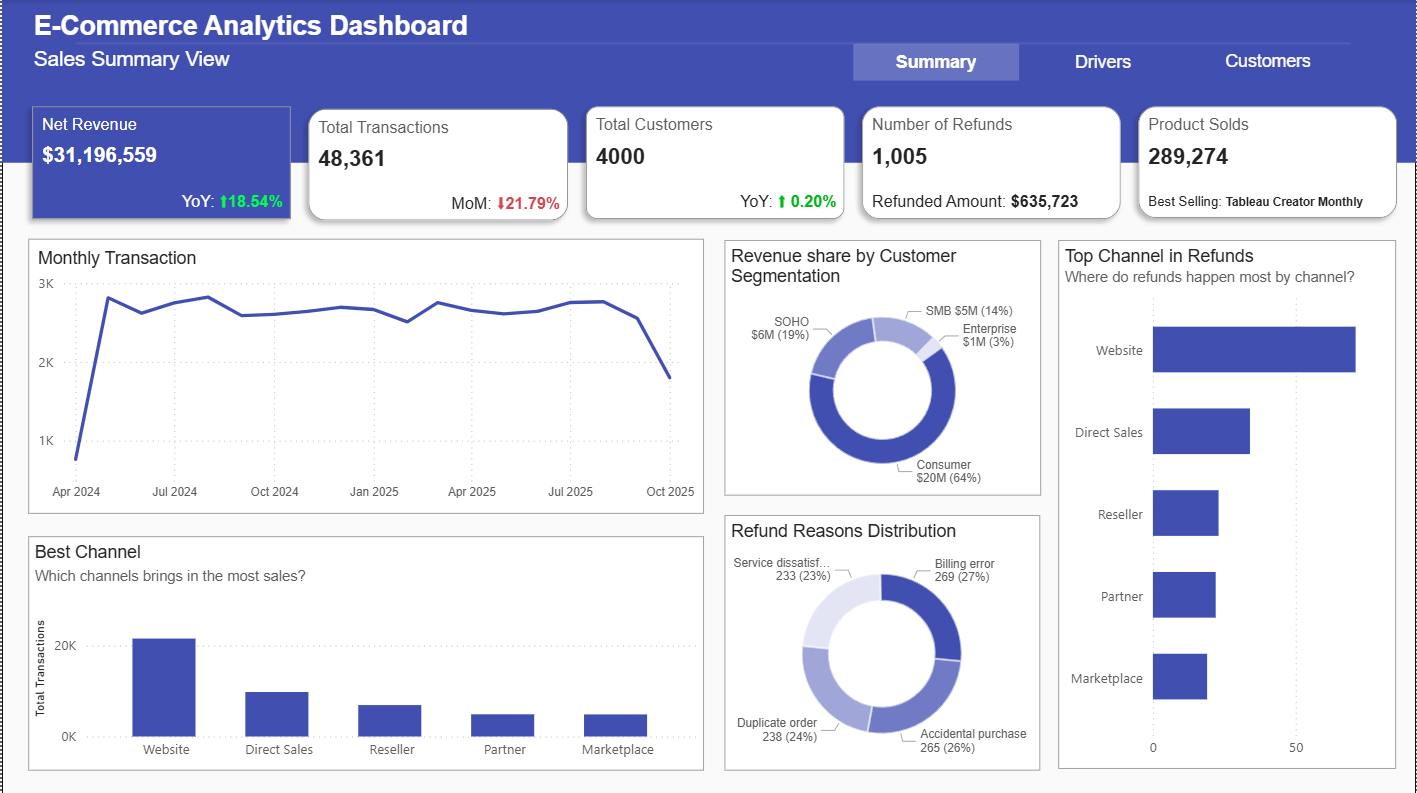

Layout of this report page (visuals, bound fields, positions):
{"tool":"powerbi","page":{"name":"Summary","canvas":[1280,720],"ordinal":0},"visuals":[{"type":"shape","box":[0,0,1280,147.4],"z":0},{"type":"textbox","box":[24.3,5.7,760,38.6],"z":1000},{"type":"cardVisual","fields":{"Data":["Events.Total Revenue"]},"box":[18.8,88.8,250,118.8],"z":2000},{"type":"cardVisual","fields":{"Data":["Customers.Total Customers"]},"box":[520,88.8,250,118.8],"z":3000},{"type":"columnChart","title":"Best Channel","fields":{"Category":["Events.channel"],"Y":["Events.Total Orders"]},"box":[24,485.4,611.2,212.1],"z":4000},{"type":"lineChart","title":"Monthly Transaction","fields":{"Category":["Events.event_date.Variation.Date Hierarchy.Year","Events.event_date.Variation.Date Hierarchy.Month"],"Y":["Events.Total Orders"]},"box":[24.3,215.7,611.4,248.6],"z":5000},{"type":"cardVisual","fields":{"Data":["Events.Total Orders"]},"box":[268.8,90,251.2,117.5],"z":6000},{"type":"cardVisual","fields":{"Data":["Events.Total Refunds"]},"box":[770,88.8,250,118.8],"z":7000},{"type":"barChart","title":"Top Channel in Refunds","fields":{"Y":["Sum(Events.refunded_num)"],"Category":["Events.channel"]},"box":[955.2,216.9,305.6,478.2],"z":8000},{"type":"textbox","box":[24.3,38.6,760,35.7],"z":9000},{"type":"cardVisual","fields":{"Data":["Events.Product Solds"]},"box":[1020,88.8,250,117.5],"z":10000},{"type":"donutChart","title":"Revenue share by Customer Segmentation","fields":{"Y":["Events.Net Revenue"],"Category":["Customers.segment"]},"box":[653.2,216.9,286.4,231.3],"z":11000},{"type":"donutChart","title":"Refund Reasons Distribution","fields":{"Category":["Events.refund_reason"],"Y":["Events.Total Refunds"]},"box":[653.2,466.2,285.2,231.3],"z":12000},{"type":"actionButton","box":[770,40,150,33.3],"z":13000},{"type":"actionButton","box":[920,40,151.1,33.3],"z":14000},{"type":"actionButton","box":[1071.1,38.9,148.9,34.4],"z":15000},{"type":"shape","box":[66.4,26.6,1152.8,26.6],"z":16000}]}

Visuals, with their boxes in screenshot pixels (x1, y1, x2, y2), scaled from the page's 1280x720 canvas onto the 1417x793 screenshot:
shape: <region>0, 0, 1416, 162</region>
textbox: <region>27, 6, 868, 49</region>
cardVisual - Events.Total Revenue: <region>21, 98, 298, 229</region>
cardVisual - Customers.Total Customers: <region>576, 98, 852, 229</region>
"Best Channel" columnChart: <region>27, 535, 703, 768</region>
"Monthly Transaction" lineChart: <region>27, 238, 704, 511</region>
cardVisual - Events.Total Orders: <region>298, 99, 576, 229</region>
cardVisual - Events.Total Refunds: <region>852, 98, 1129, 229</region>
"Top Channel in Refunds" barChart: <region>1057, 239, 1396, 766</region>
textbox: <region>27, 43, 868, 82</region>
cardVisual - Events.Product Solds: <region>1129, 98, 1406, 227</region>
"Revenue share by Customer Segmentation" donutChart: <region>723, 239, 1040, 494</region>
"Refund Reasons Distribution" donutChart: <region>723, 513, 1039, 768</region>
actionButton: <region>852, 44, 1018, 81</region>
actionButton: <region>1018, 44, 1186, 81</region>
actionButton: <region>1186, 43, 1351, 81</region>
shape: <region>74, 29, 1350, 59</region>
